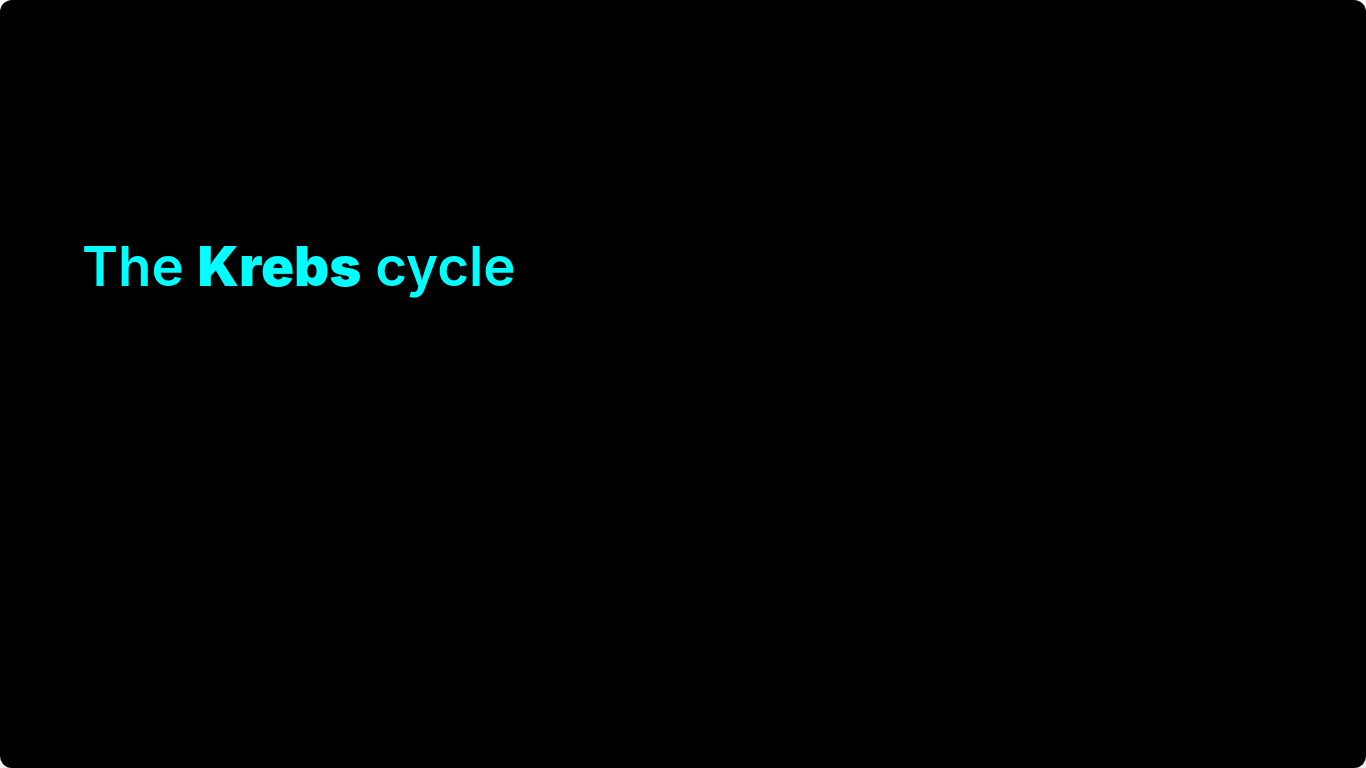
Test: SlideView markdown rendering › shows formatted markdown in editable display, raw source when editing
The width and height of the screenshot is (1366, 768).
Step 1. Click the button titled "Click to edit Slide title" → click(299, 267), box [78,226,520,308]
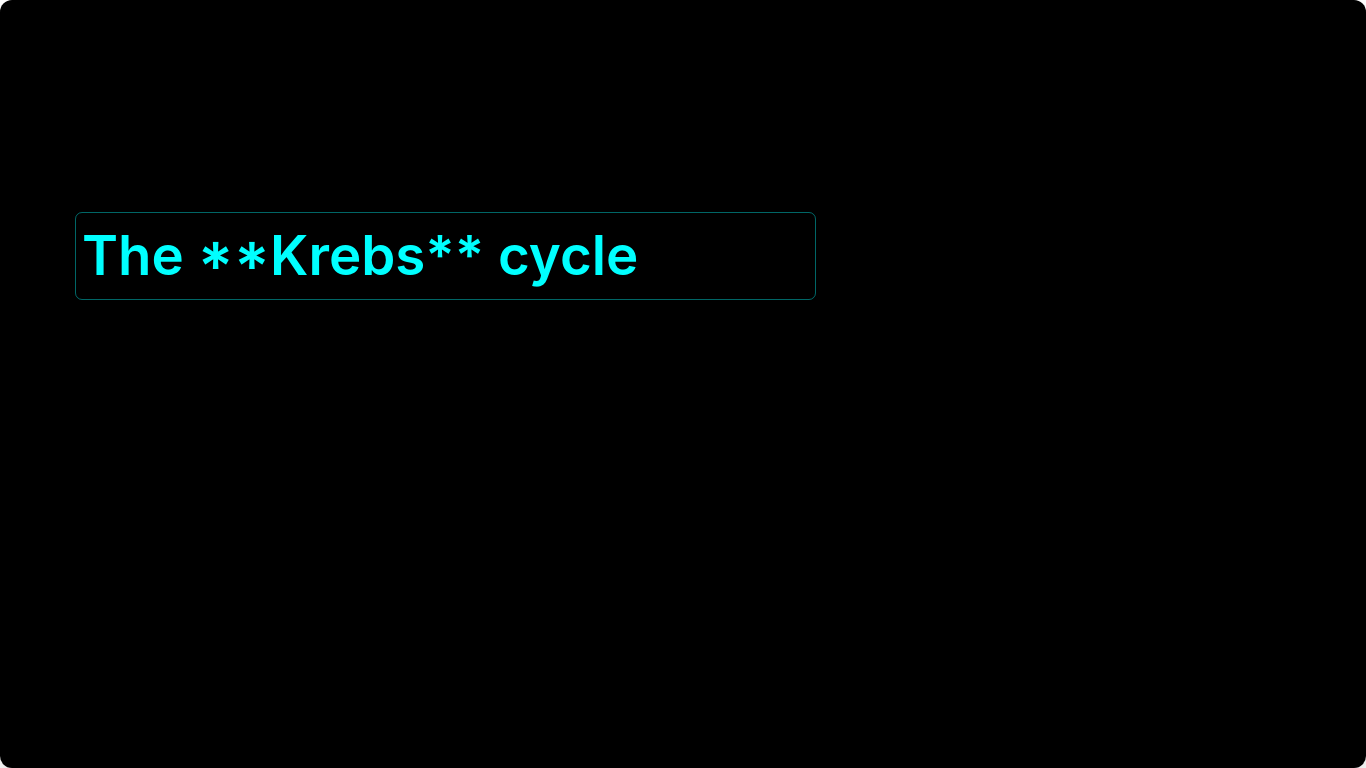
Check: the text box named "Slide title" holds "The **Krebs** cycle", box [78,215,813,297]
